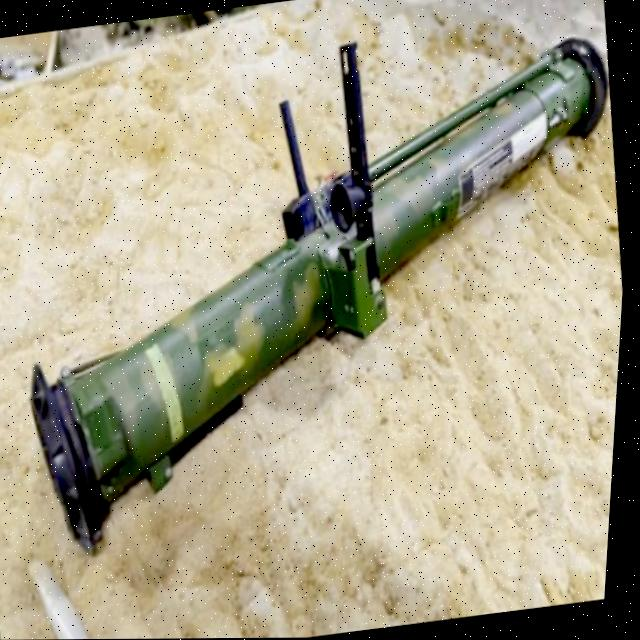rocket: (0, 1, 640, 585)
